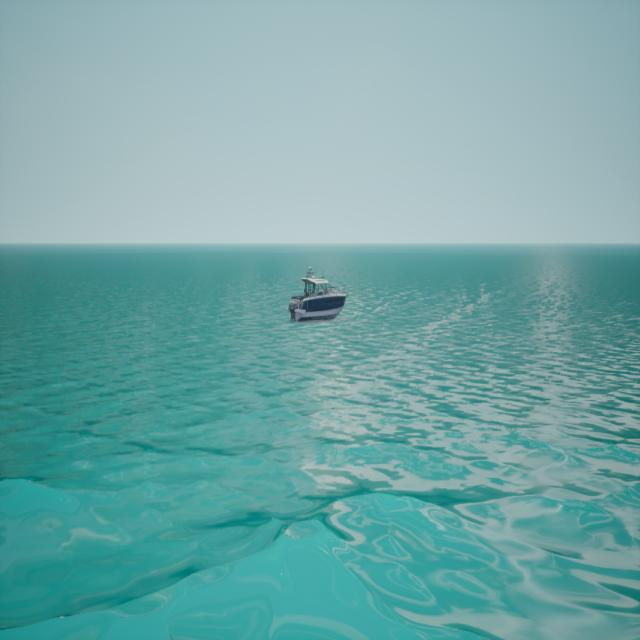ship: (288, 265, 346, 323)
